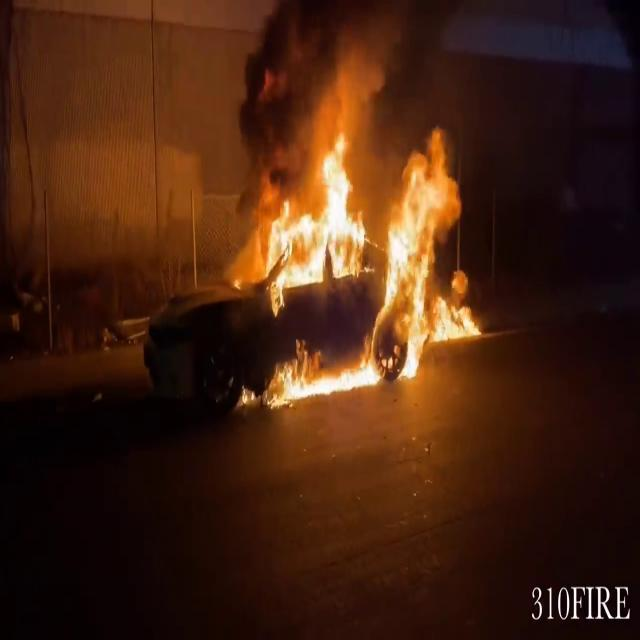Fire: (246, 84, 484, 399)
Smoke: (223, 0, 404, 152)
